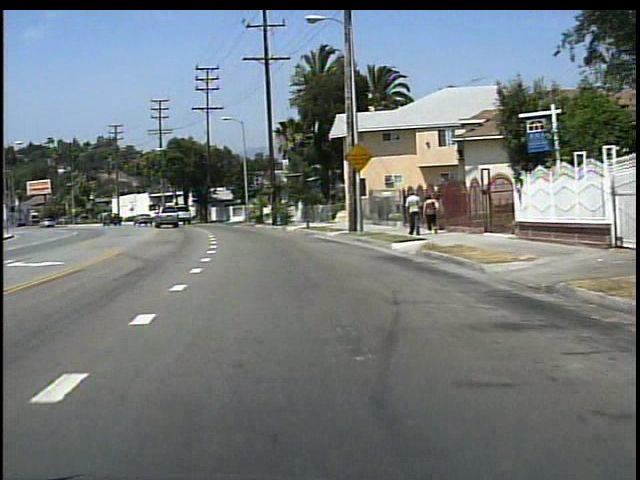person: (403, 186, 424, 238), (421, 192, 442, 234)
